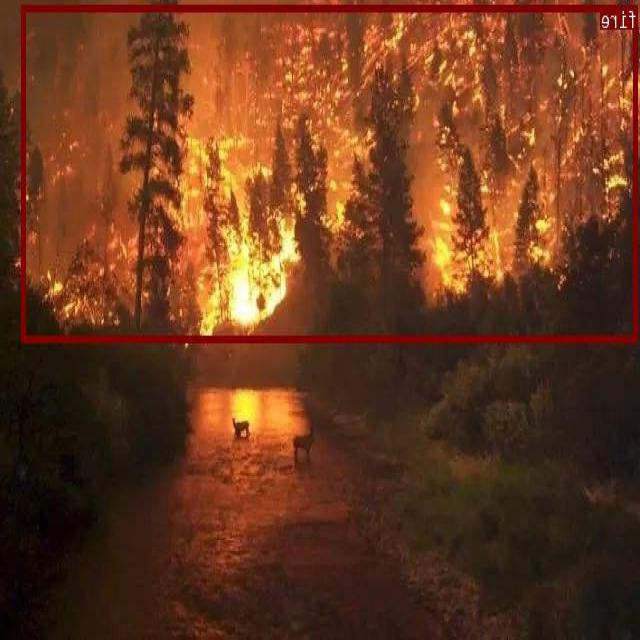fire: (23, 4, 639, 342)
